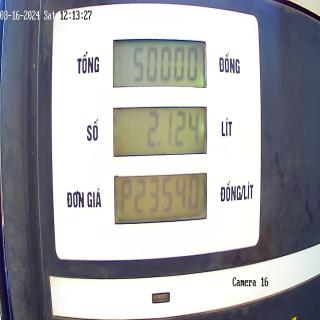screen: (109, 36, 209, 227)
